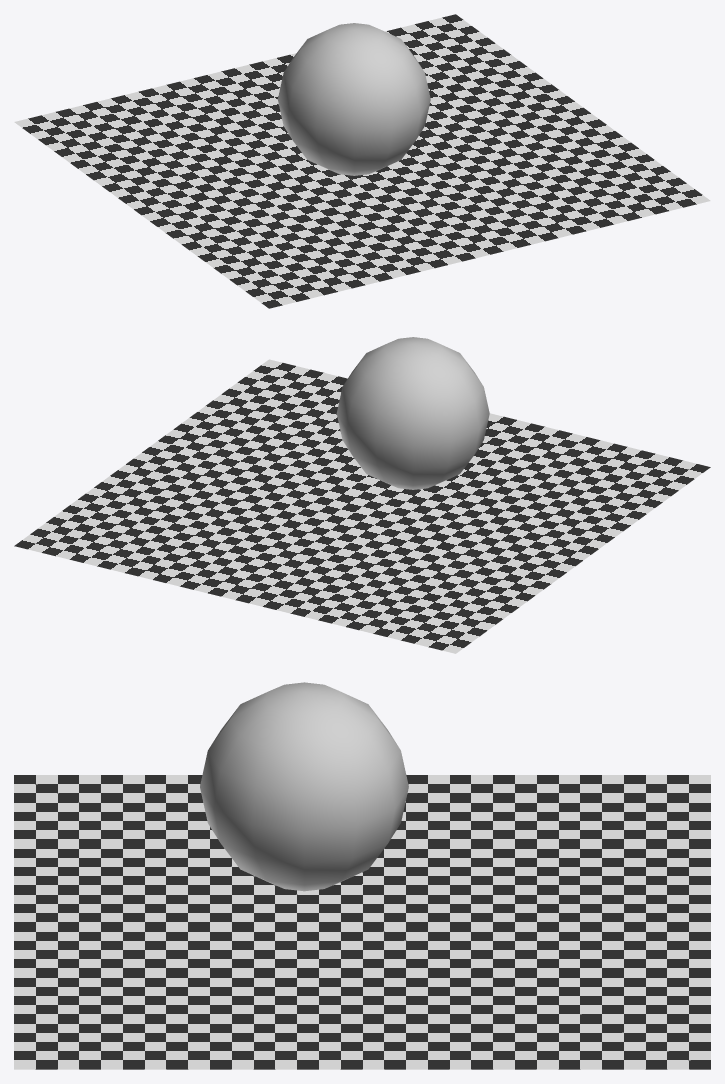
3 views of the same model, one above another, from view 1: azimuth 30°, elevation 25°; view 2: azimuth 150°, elevation 25°; view 3: azimuth 270°, elevation 25° (orthographic). The views are drawn at different scales.
Visible parts, largest first — view 1: PhongSphere; view 2: PhongSphere; view 3: PhongSphere.
Boxes of the visible parts, x1=… form: PhongSphere: x1=14, y1=14, x2=710, y2=308; PhongSphere: x1=14, y1=337, x2=710, y2=653; PhongSphere: x1=14, y1=682, x2=710, y2=1069.
Size of the model in its own units: 6 by 2 by 6.
1 material, 1 textured.
